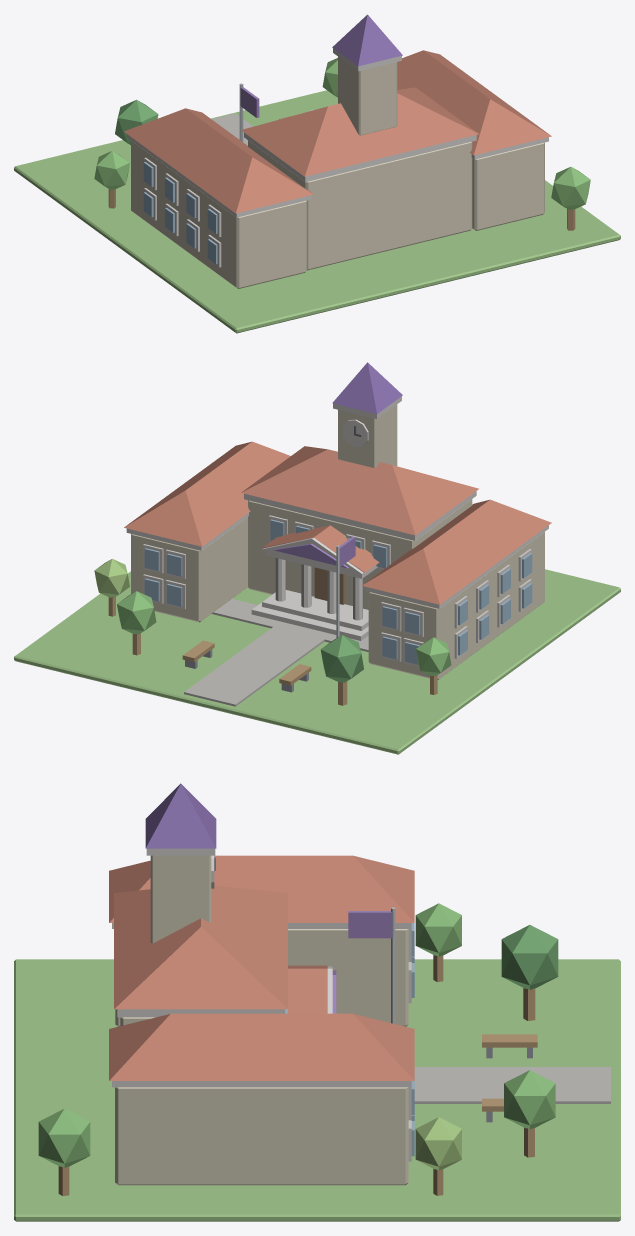
File: publicos__universidade.glb
The picture shows the model from 3 angles, top to bottom: view 1: azimuth 30°, elevation 25°; view 2: azimuth 150°, elevation 25°; view 3: azimuth 270°, elevation 25°; orthographic projection. The views are drawn at different scales.
Visible parts, largest first — view 1: publicos__universidade; view 2: publicos__universidade; view 3: publicos__universidade.
Part boxes in pixels (x1,y1,x2,y2): publicos__universidade: (14, 14, 620, 333); publicos__universidade: (14, 362, 620, 754); publicos__universidade: (14, 783, 620, 1221).
Bounding box in the file's own units: 6 × 3.39 × 6.
